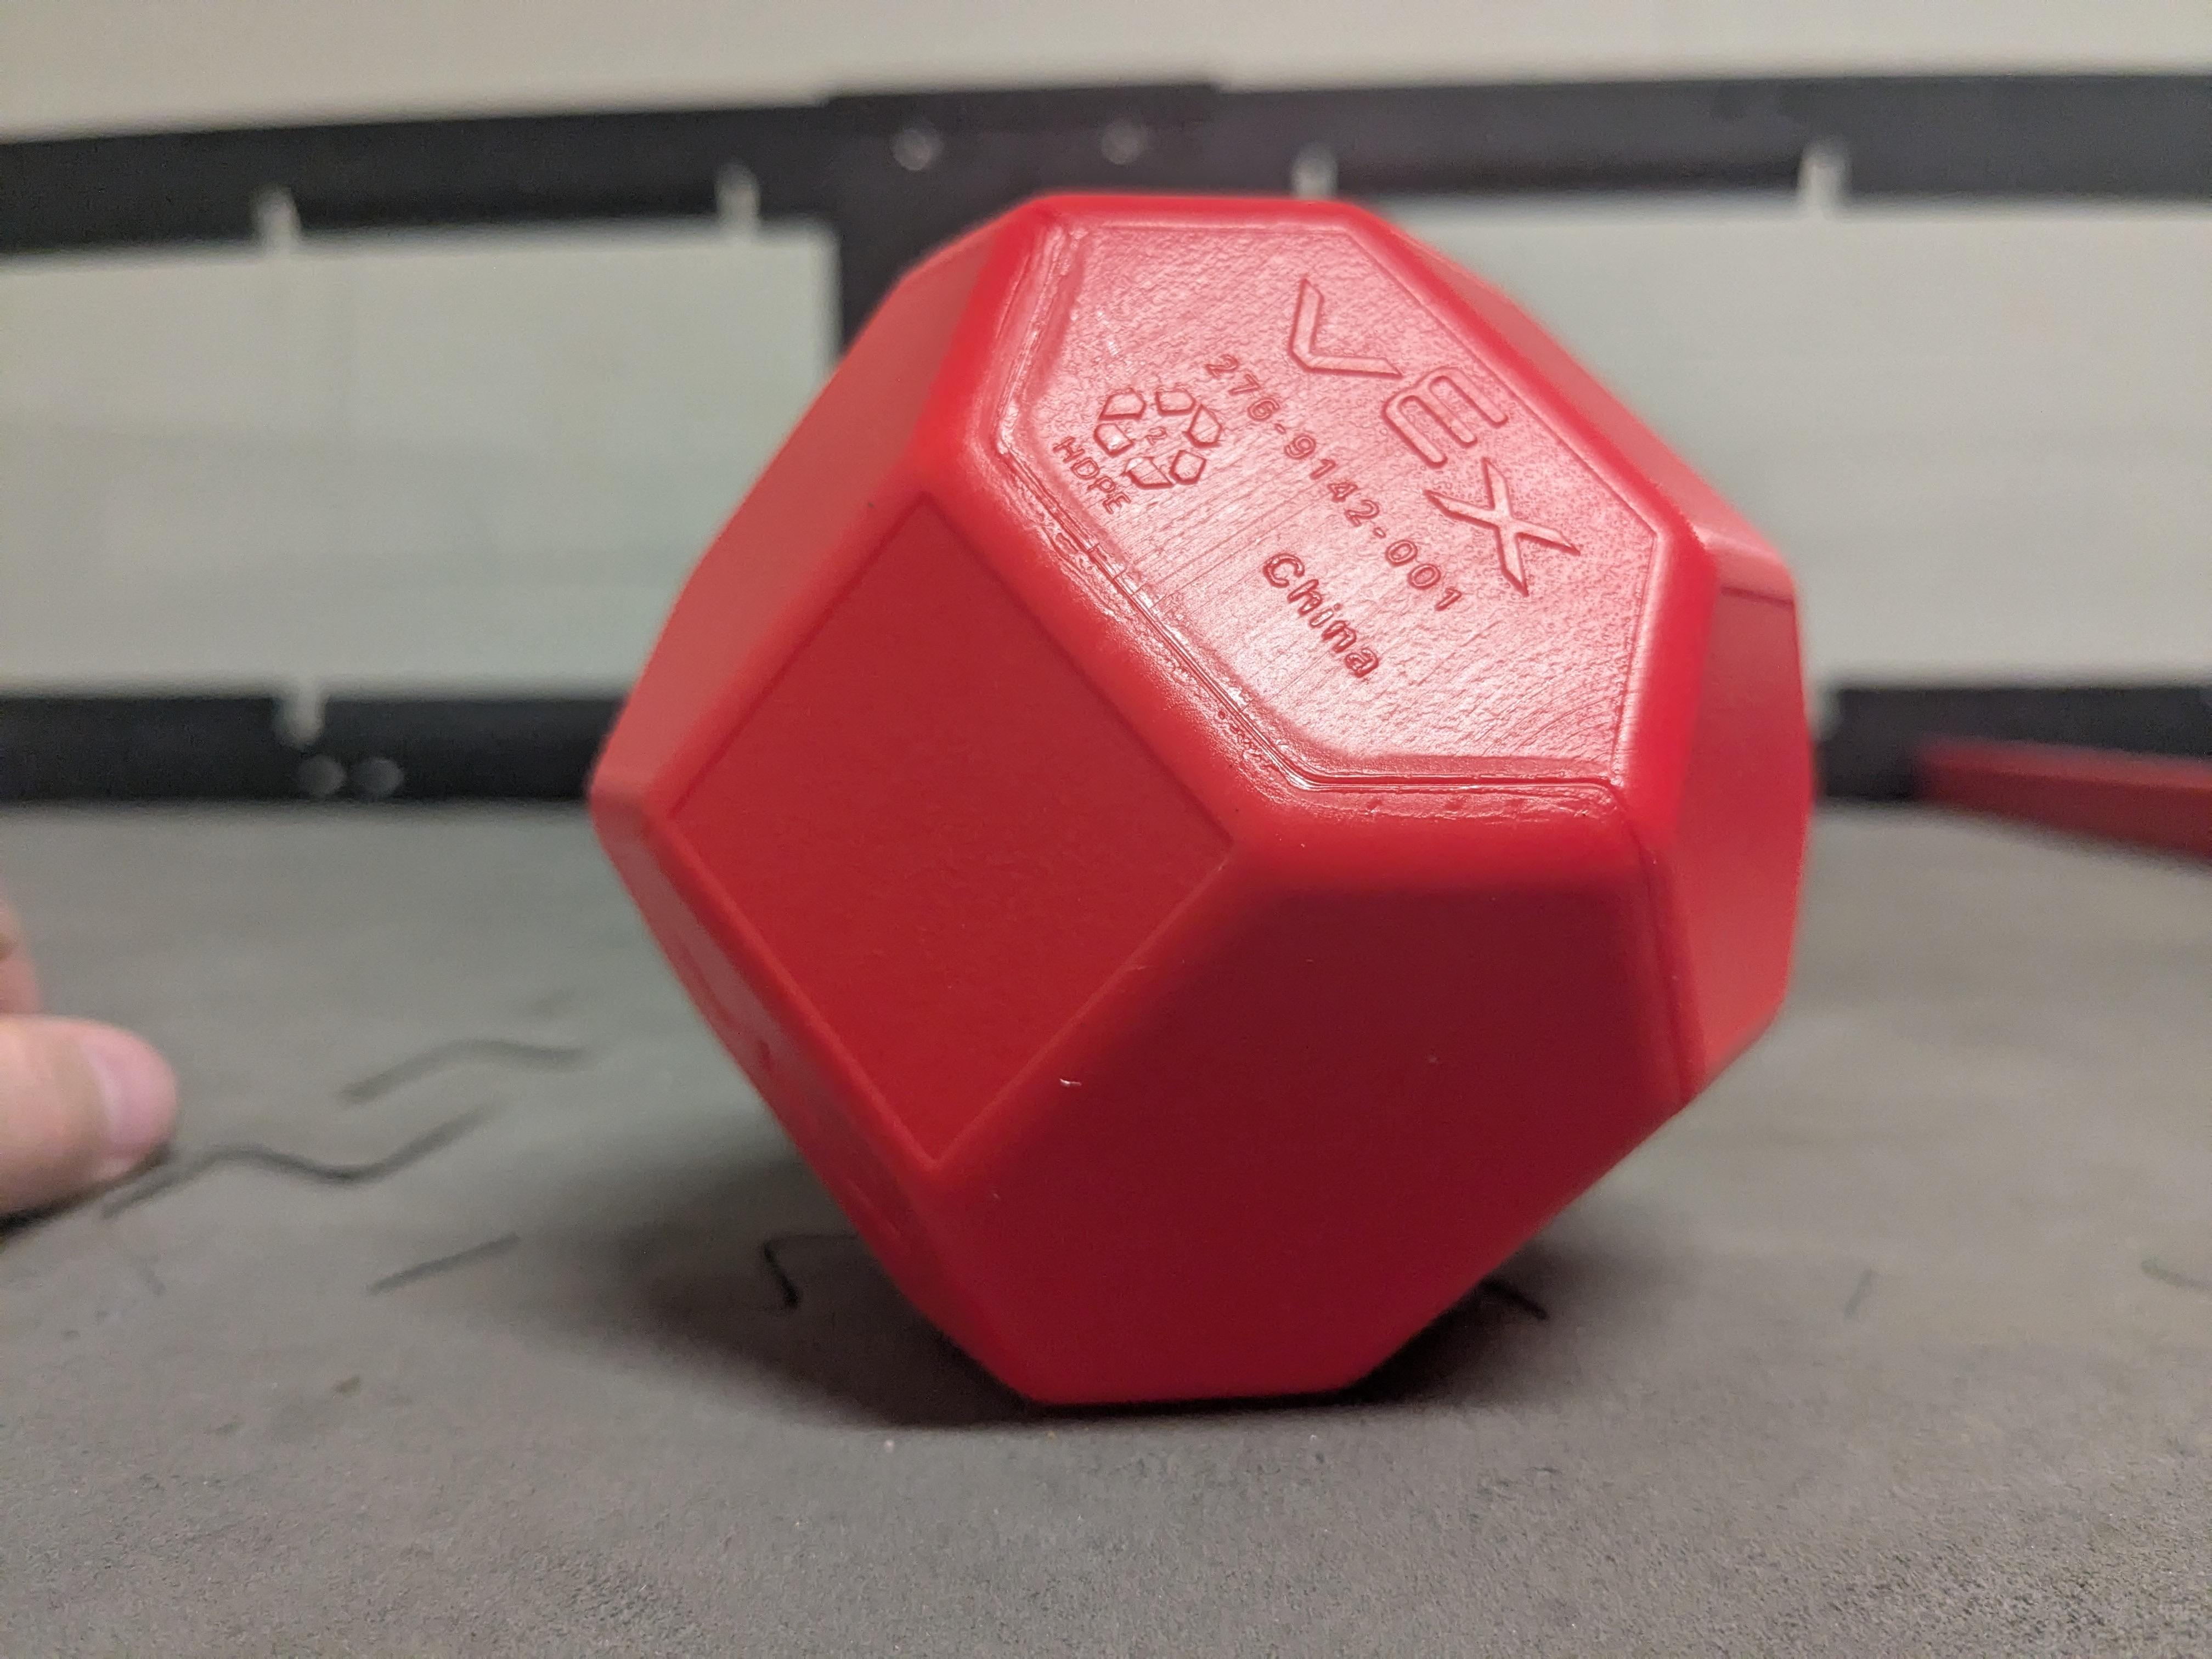Vex-Pieces-RED: (594, 193, 1813, 1403)
